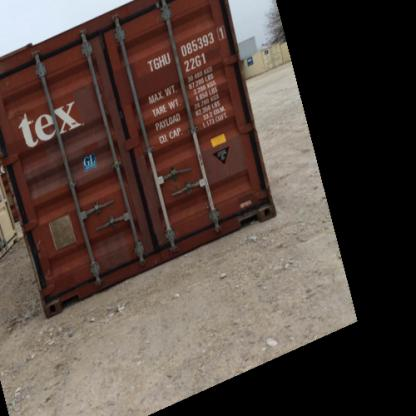Damage: (93, 229, 132, 265), (29, 236, 49, 262), (43, 260, 59, 282)
